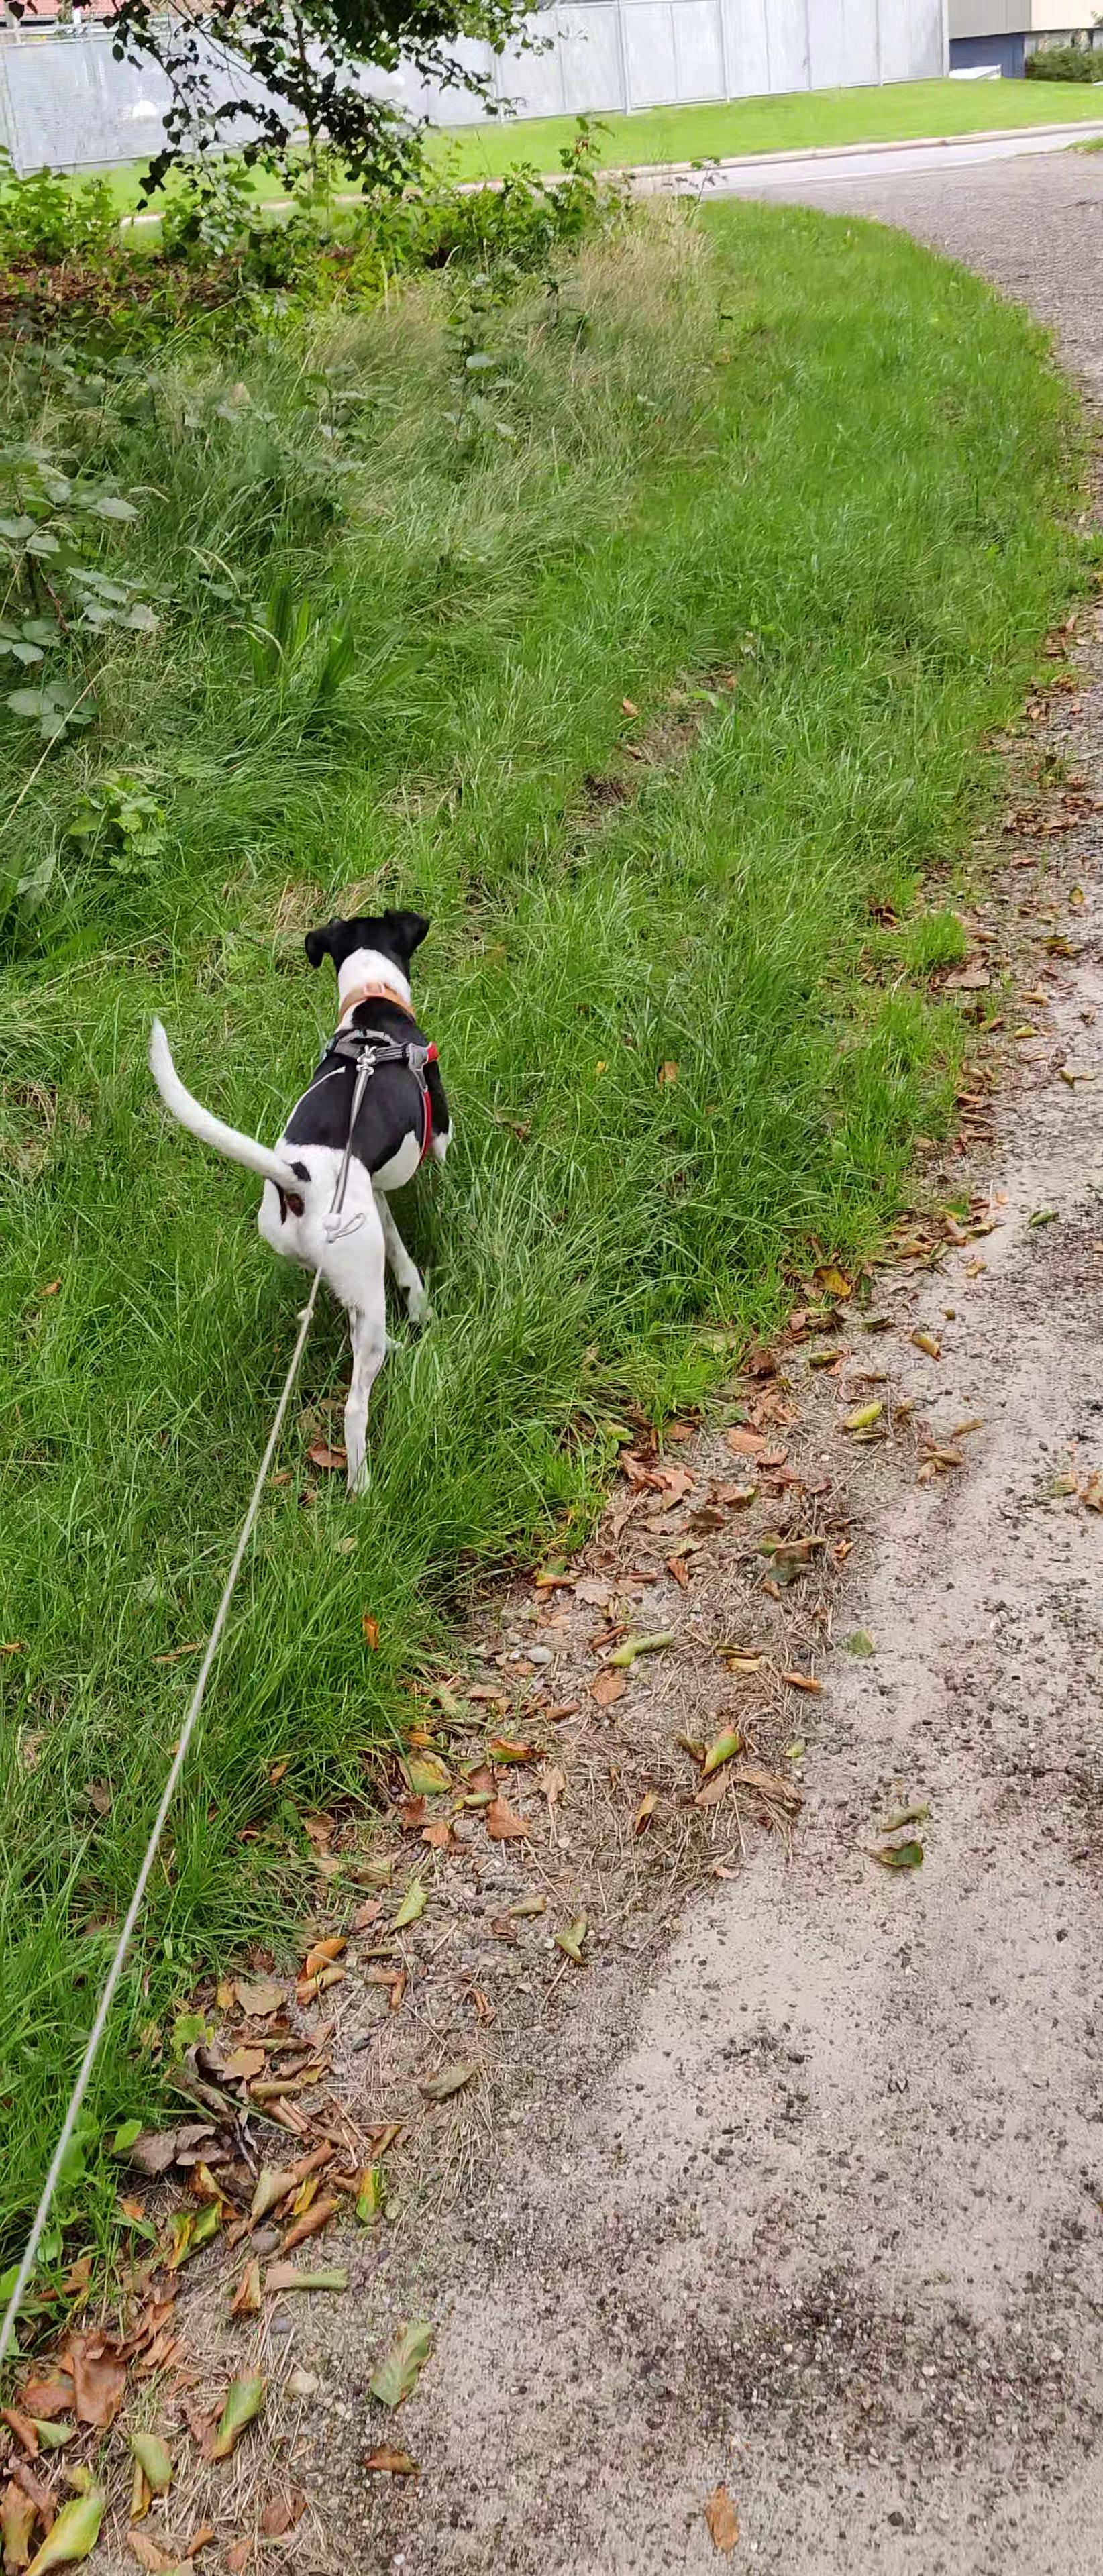Dog: (125, 894, 467, 1500)
